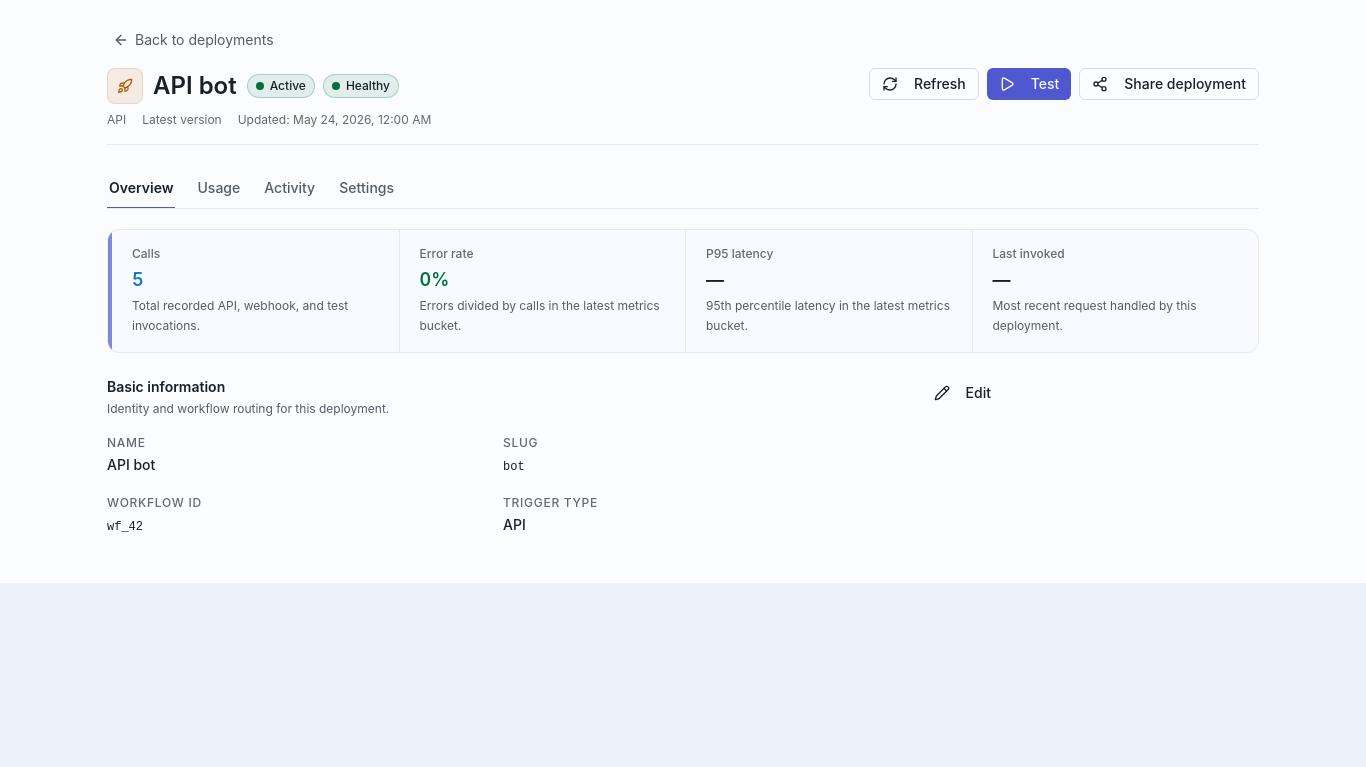
<DeploymentDetailPage> › renders the simplified detail sections and the Overview content
Expected: the heading "API bot" is shown, [153,70,237,102]
Expected: the text "/api/v1/deployments/bot/invoke" is not shown
Click the button "Edit" at (962, 393), box [922,377,1003,409]
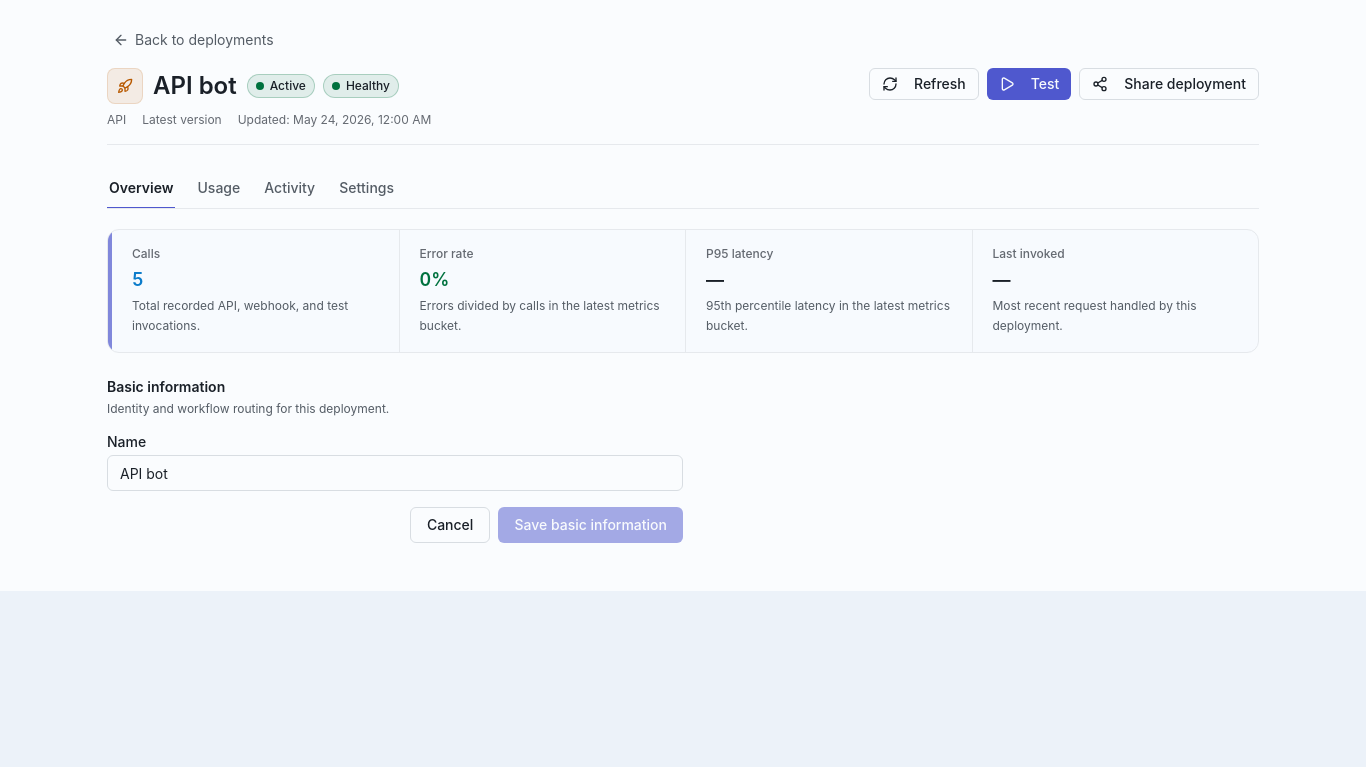
Now the field labelled "Name" holds "API bot", box [107,455,683,491]
Click the button "Cancel" at (450, 525), box [410,507,490,543]
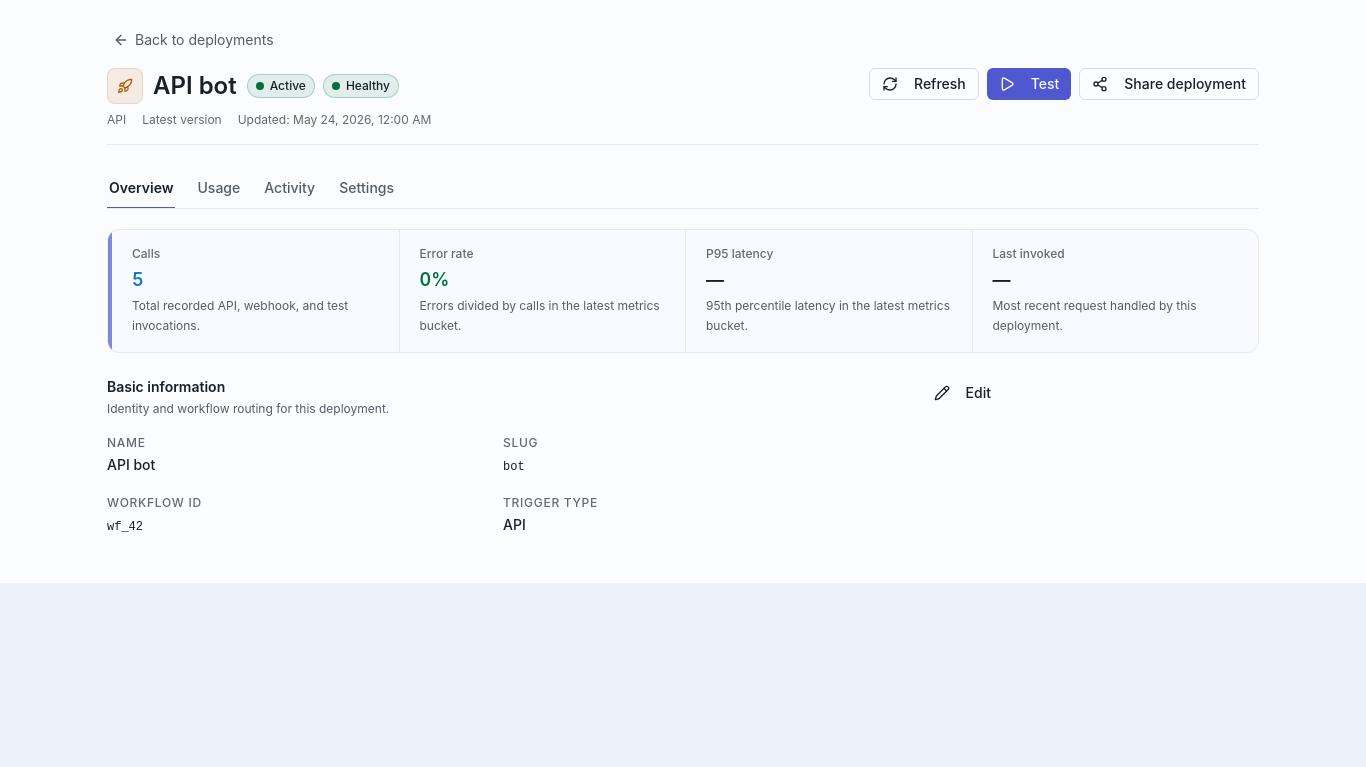
Click the tab "Usage" at (219, 189), box [196,169,242,209]
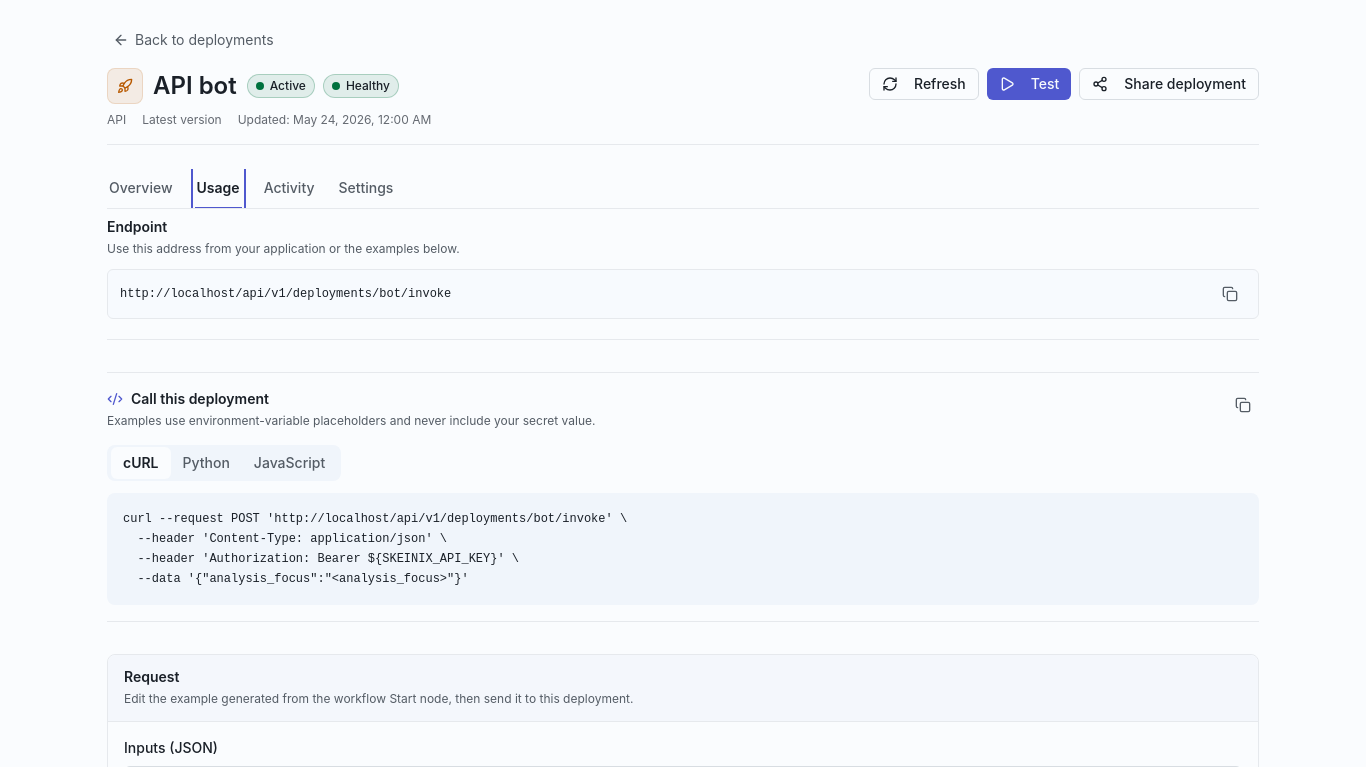
Now the text "http://localhost/api/v1/deployments/bot/invoke" is shown, box [120,287,451,301]
Now the button named "copy endpoint" is shown, box [1214,278,1246,310]
# Settings keeps high-risk API key rotation explicit.
Click the tab "Settings" at (366, 189), box [336,169,395,209]
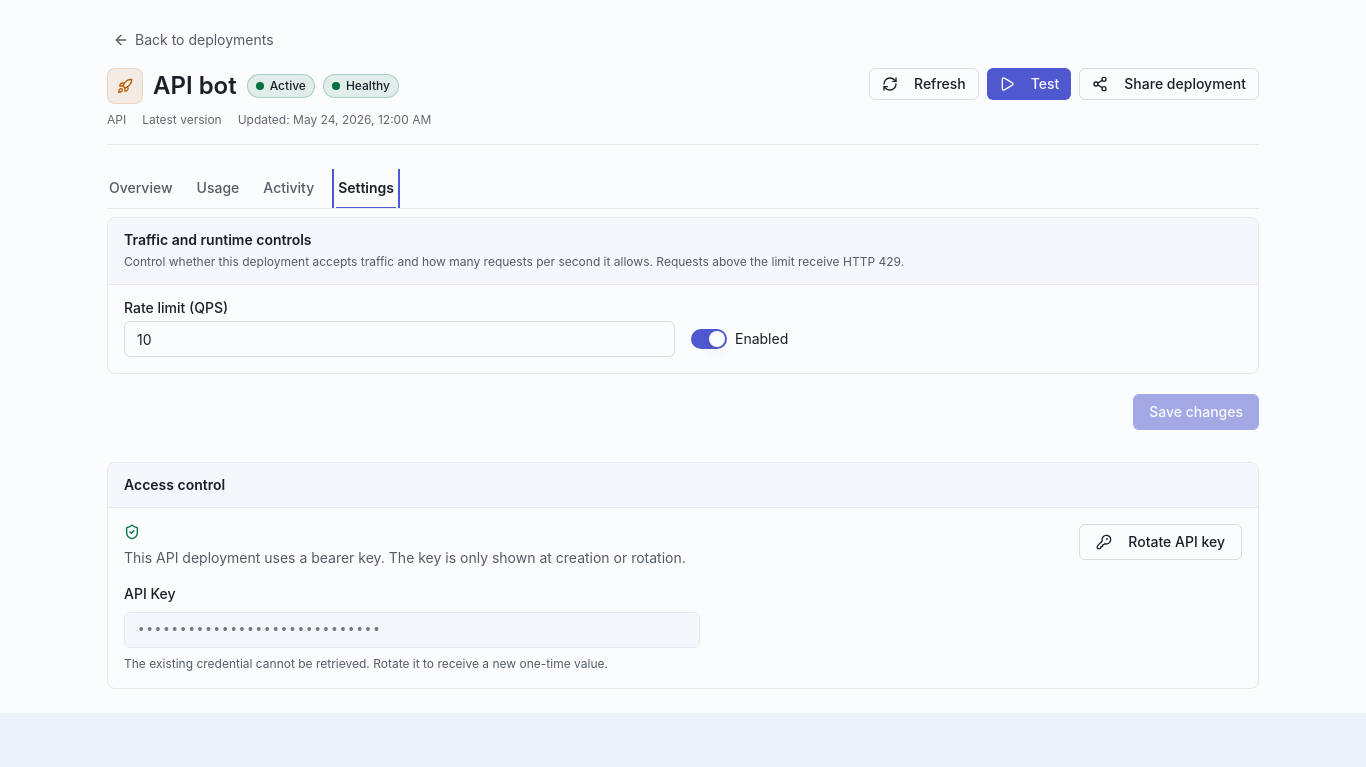
Expected: the heading "Basic information" is not shown
Now the heading "Traffic and runtime controls" is shown, box [124,231,312,248]
Now the button "Rotate API key" is shown, box [1079,524,1242,560]
